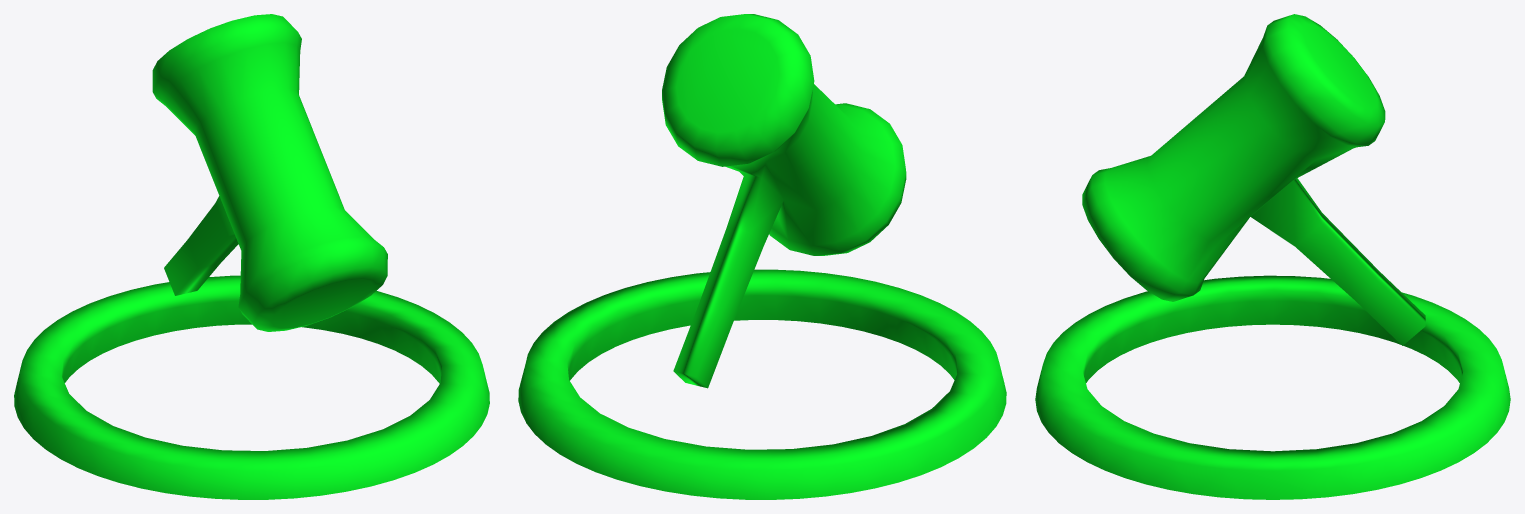
The model's file is AuctionPointe0~100r.FBX.
The picture shows the model from 3 angles, left to right: view 1: azimuth 30°, elevation 25°; view 2: azimuth 150°, elevation 25°; view 3: azimuth 270°, elevation 25°; orthographic projection. The views are drawn at different scales.
Parts seen in each view (by area): view 1: Box001; view 2: Box001; view 3: Box001.
Part boxes in pixels (x1,y1,x2,y2): Box001: (14, 14, 489, 499); Box001: (518, 14, 1006, 499); Box001: (1035, 14, 1510, 499).
Bounding box in the file's own units: 42.79 × 38.07 × 42.79.
